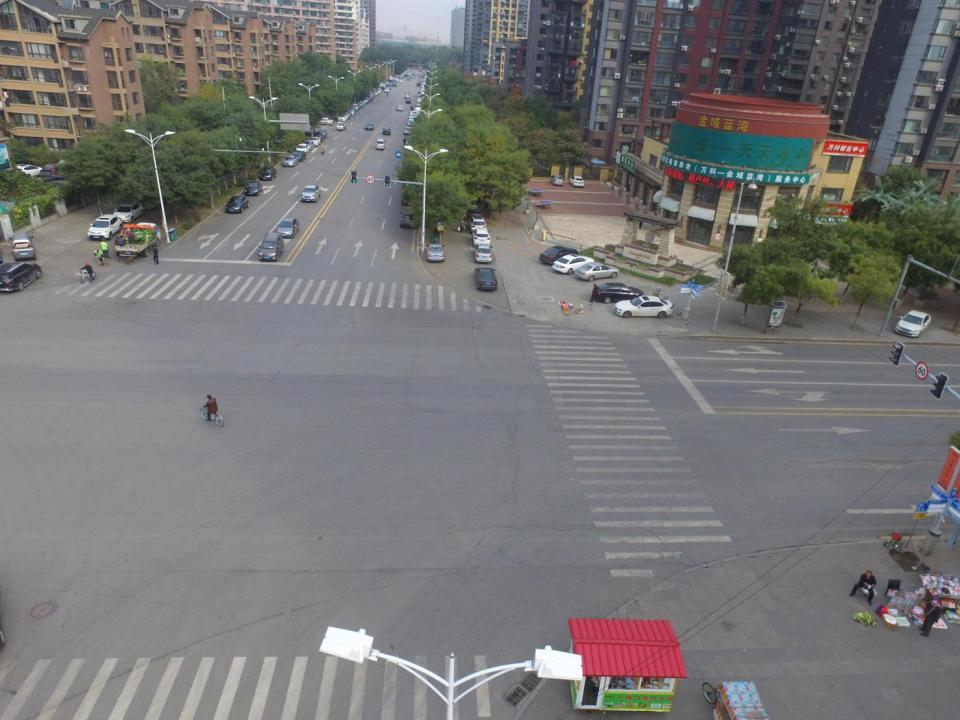car: (616, 297, 677, 319), (0, 264, 43, 294), (597, 282, 646, 304), (897, 310, 934, 338), (551, 253, 594, 274), (574, 263, 618, 283), (539, 245, 577, 267), (87, 216, 120, 241), (110, 202, 144, 224), (258, 234, 284, 260), (474, 268, 499, 292), (276, 217, 300, 240), (12, 163, 42, 181), (43, 161, 65, 180), (242, 178, 262, 198), (226, 197, 249, 214), (427, 244, 445, 264), (472, 228, 492, 246), (301, 184, 320, 202), (400, 209, 417, 228), (475, 246, 492, 264), (469, 216, 486, 232), (572, 174, 588, 189), (401, 190, 416, 206), (468, 204, 482, 221), (257, 169, 276, 180), (282, 156, 299, 167), (552, 173, 564, 188), (296, 143, 308, 155), (293, 151, 306, 162), (308, 136, 319, 146), (314, 132, 324, 142), (318, 128, 327, 139), (304, 141, 314, 150), (364, 123, 375, 131), (381, 127, 392, 135), (404, 127, 412, 136), (396, 105, 404, 110), (406, 98, 411, 104), (404, 91, 410, 96), (404, 94, 408, 99)
truck: (115, 223, 162, 258), (336, 122, 348, 132)
van: (8, 233, 35, 262), (376, 138, 386, 151)
